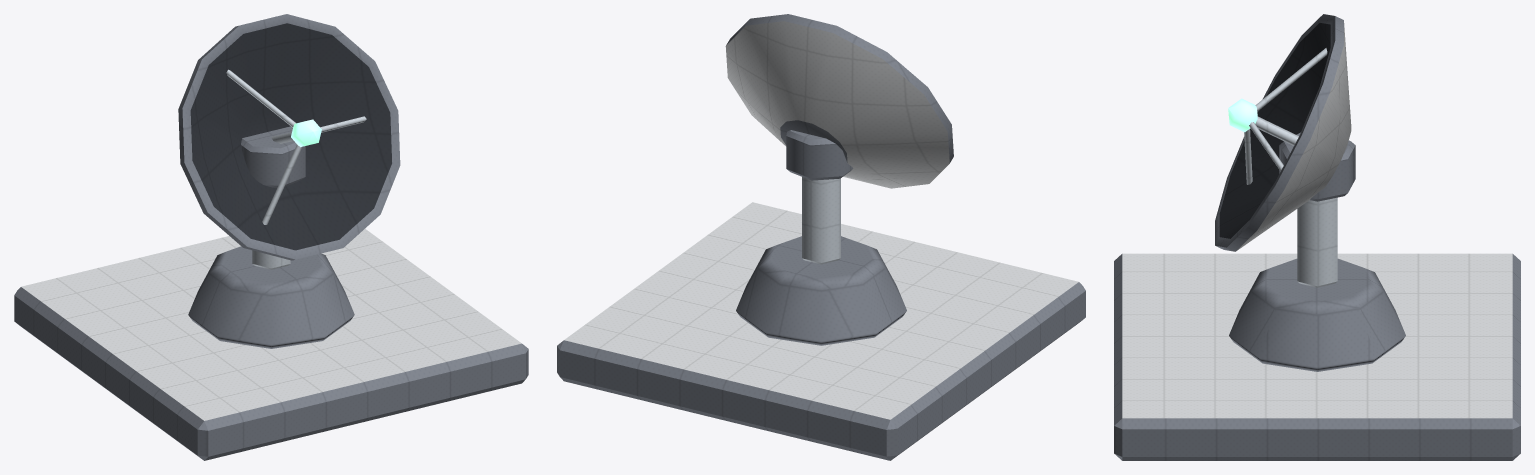
Rendered from R4X_Radar_LOD1.glb.
The picture shows the model from 3 angles, left to right: view 1: azimuth 30°, elevation 25°; view 2: azimuth 150°, elevation 25°; view 3: azimuth 270°, elevation 25°; orthographic projection. The views are drawn at different scales.
Visible parts, largest first — view 1: R4X_Radar_LOD1; view 2: R4X_Radar_LOD1; view 3: R4X_Radar_LOD1.
Part boxes in pixels (x1=…): R4X_Radar_LOD1: x1=14, y1=14, x2=528, y2=460; R4X_Radar_LOD1: x1=557, y1=14, x2=1085, y2=460; R4X_Radar_LOD1: x1=1114, y1=14, x2=1520, y2=460.
Bounding box in the file's own units: 0.52 × 0.4941 × 0.52.
5 materials, 4 textured.
